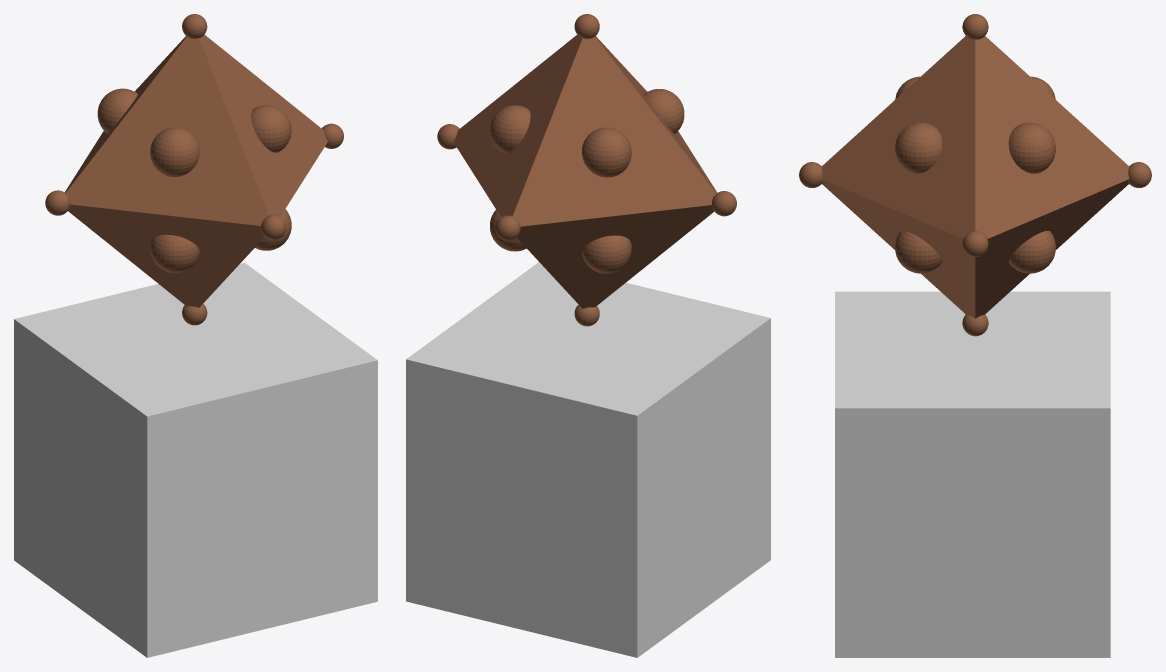
3 views of the same model, side by side, from view 1: azimuth 30°, elevation 25°; view 2: azimuth 150°, elevation 25°; view 3: azimuth 270°, elevation 25° (orthographic). The views are drawn at different scales.
Parts seen in each view (by area): view 1: Cube, node_id3; view 2: Cube, node_id3; view 3: Cube, node_id3.
Part boxes in pixels (x1,y1,x2,y2): Cube: (14,263,377,657); node_id3: (45,14,343,325); Cube: (406,262,770,657); node_id3: (437,14,736,326); Cube: (835,291,1110,657); node_id3: (799,14,1151,336).
Bounding box in the file's own units: 2.56 × 4.68 × 2.56.
Materials: 2 (1 with a texture image).
